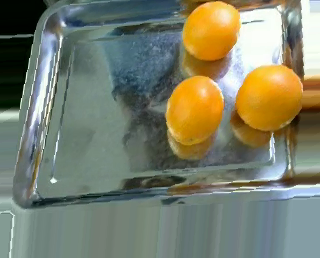Orange: (236, 65, 305, 132), (164, 76, 223, 146), (181, 2, 240, 60)
